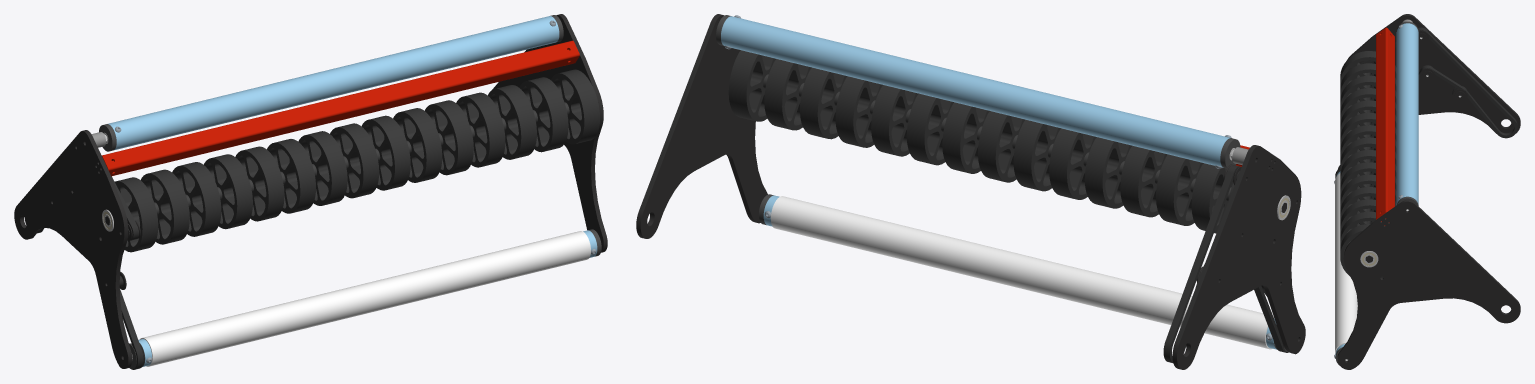
3 renders of one model, left to right at view 1: azimuth 30°, elevation 25°; view 2: azimuth 150°, elevation 25°; view 3: azimuth 270°, elevation 25°, orthographic. The views are drawn at different scales.
Parts seen in each view (by area): view 1: 4" Thrifty Squish Wheel (45A, 1" Wide, 1/2" Hex Bore) (×15), Roller material, Roller Tube, Part 10, roller plate, roller plate 2, 250T 5M 9mm Wide DS Belt; view 2: 4" Thrifty Squish Wheel (45A, 1" Wide, 1/2" Hex Bore) (×14), Roller Tube, Roller material, roller plate, roller plate 2, 250T 5M 9mm Wide DS Belt; view 3: roller plate 2, 4" Thrifty Squish Wheel (45A, 1" Wide, 1/2" Hex Bore) (×15), roller plate, Roller Tube, Part 10, Roller material, 250T 5M 9mm Wide DS Belt, 1/2" Hex Bore Bearing (1.125" OD, 0.313" WD, Shielded, Flang.
Part boxes in pixels (x1,y1,x2,y2): 4" Thrifty Squish Wheel (45A, 1" Wide, 1/2" Hex Bore) (×15): (115,69,599,252); Roller material: (140,231,590,366); Roller Tube: (108,16,559,150); Part 10: (101,40,579,176); roller plate: (14,130,132,368); roller plate 2: (492,14,607,252); 250T 5M 9mm Wide DS Belt: (24,176,143,369); 4" Thrifty Squish Wheel (45A, 1" Wide, 1/2" Hex Bore) (×14): (728,50,1233,233); Roller Tube: (721,16,1229,167); Roller material: (770,196,1274,349); roller plate: (1172,145,1305,369); roller plate 2: (636,14,767,238); 250T 5M 9mm Wide DS Belt: (1163,165,1288,362); roller plate 2: (1337,200,1520,369); 4" Thrifty Squish Wheel (45A, 1" Wide, 1/2" Hex Bore) (×15): (1340,51,1396,278); roller plate: (1338,14,1520,168); Roller Tube: (1396,23,1418,204); Part 10: (1376,27,1394,225); Roller material: (1335,173,1357,353); 250T 5M 9mm Wide DS Belt: (1335,28,1517,178); 1/2" Hex Bore Bearing (1.125" OD, 0.313" WD, Shielded, Flang: (1360,251,1378,267).
Size of the model in its own units: 0.7747 by 0.3268 by 0.3238.
